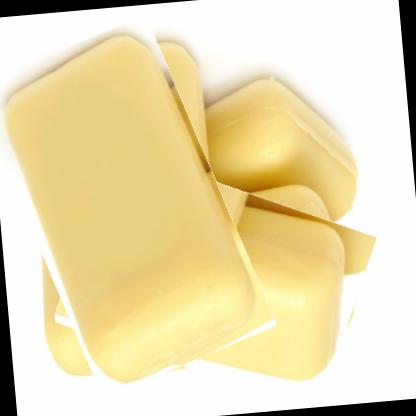soap: (0, 19, 258, 396), (55, 150, 378, 408)
